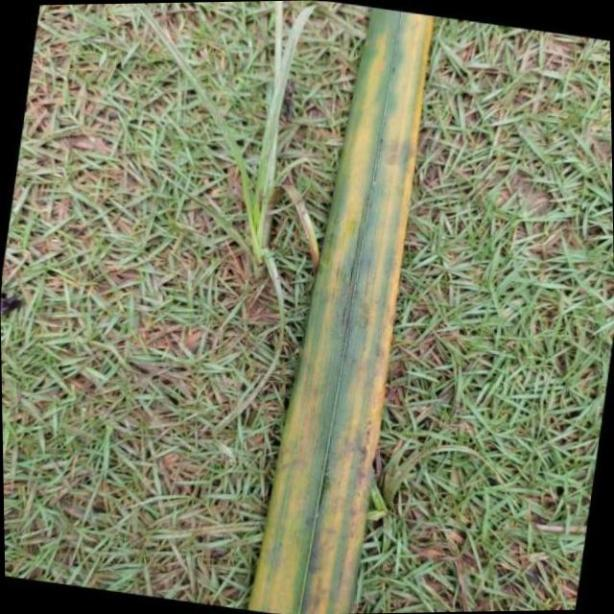Megnesium: (253, 0, 433, 614)
